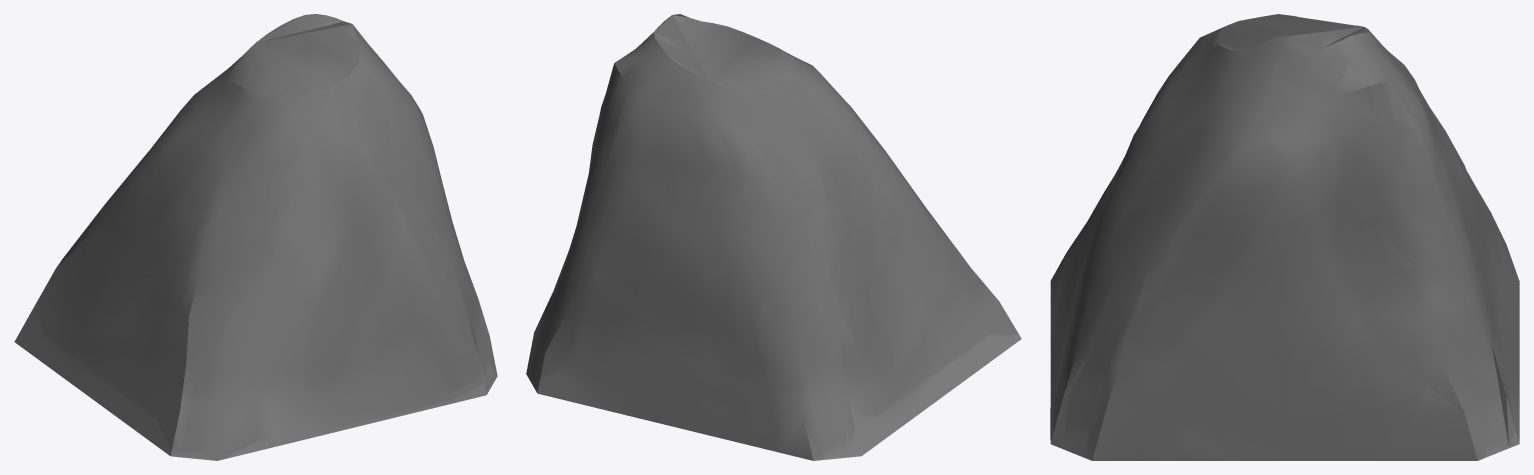
File: rock.obj
3 renders of one model, left to right at view 1: azimuth 30°, elevation 25°; view 2: azimuth 150°, elevation 25°; view 3: azimuth 270°, elevation 25°, orthographic. The views are drawn at different scales.
Visible parts, largest first — view 1: Cube; view 2: Cube; view 3: Cube.
Part boxes in pixels (x1=…): Cube: x1=14, y1=14, x2=497, y2=460; Cube: x1=526, y1=14, x2=1021, y2=460; Cube: x1=1050, y1=14, x2=1519, y2=460.
Bounding box in the file's own units: 13.2 × 11.95 × 13.2.
